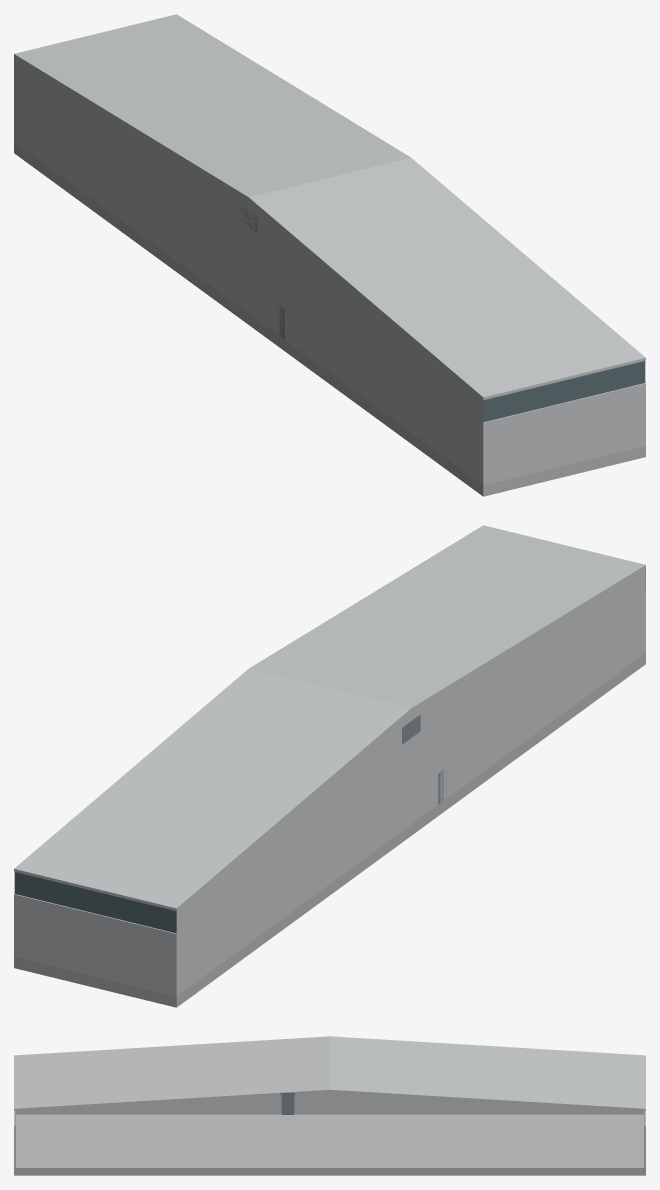
The model's file is industrial_s2.glb.
3 renders of one model, top to bottom at view 1: azimuth 30°, elevation 25°; view 2: azimuth 150°, elevation 25°; view 3: azimuth 270°, elevation 25°, orthographic. The views are drawn at different scales.
Visible parts, largest first — view 1: industrial_s2; view 2: industrial_s2; view 3: industrial_s2.
Boxes of the visible parts, <box> form: industrial_s2: <box>14,14,645,496</box>; industrial_s2: <box>14,525,645,1007</box>; industrial_s2: <box>14,1036,645,1175</box>.
Bounding box in the file's own units: 12 × 9 × 60.
